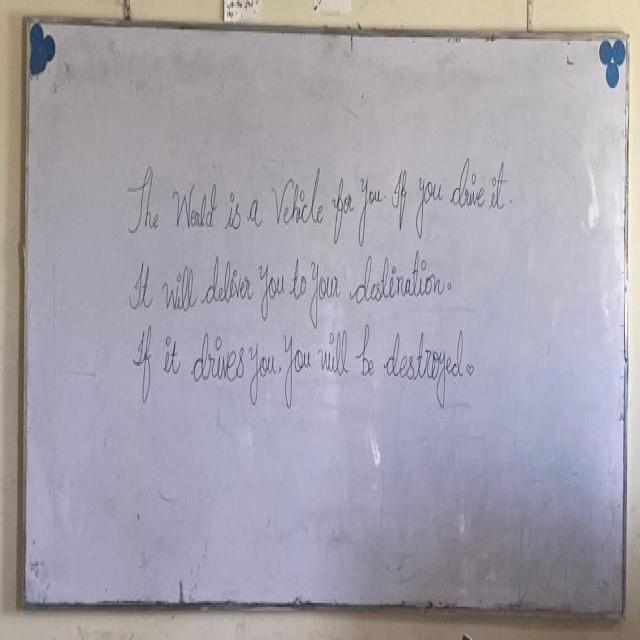White-board: (24, 22, 627, 615)
